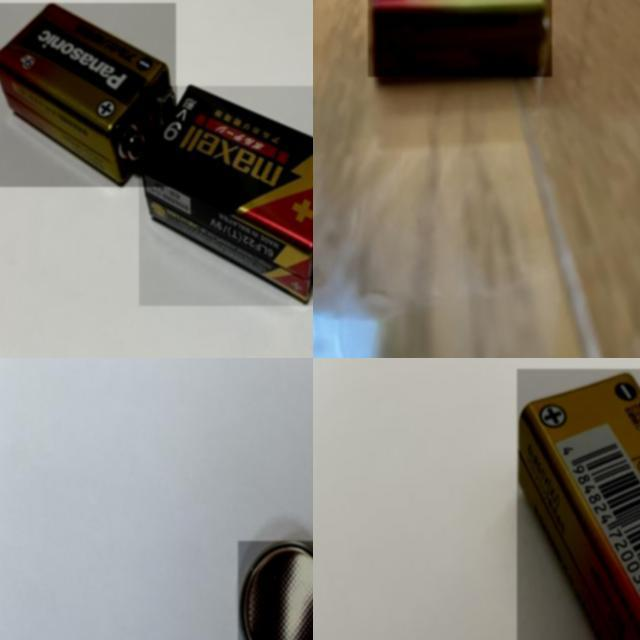9V: (139, 86, 313, 306), (517, 369, 640, 640), (0, 3, 176, 187), (367, 0, 552, 76)
